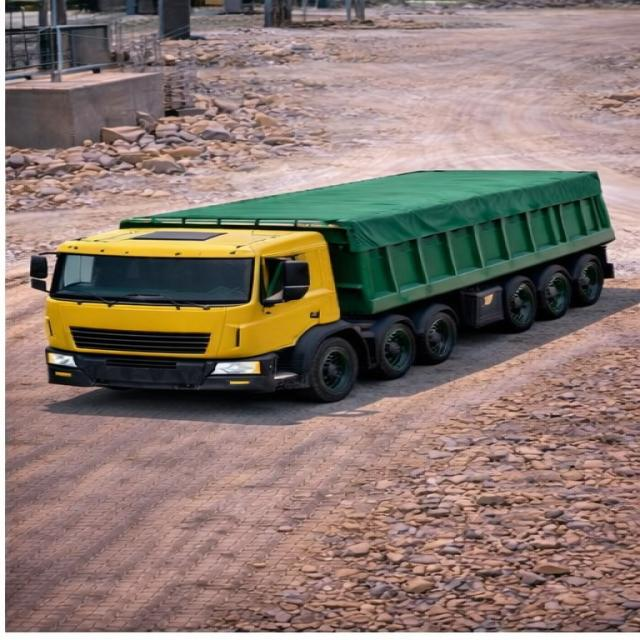Box: (119, 166, 602, 228)
Truck: (19, 146, 620, 400)
